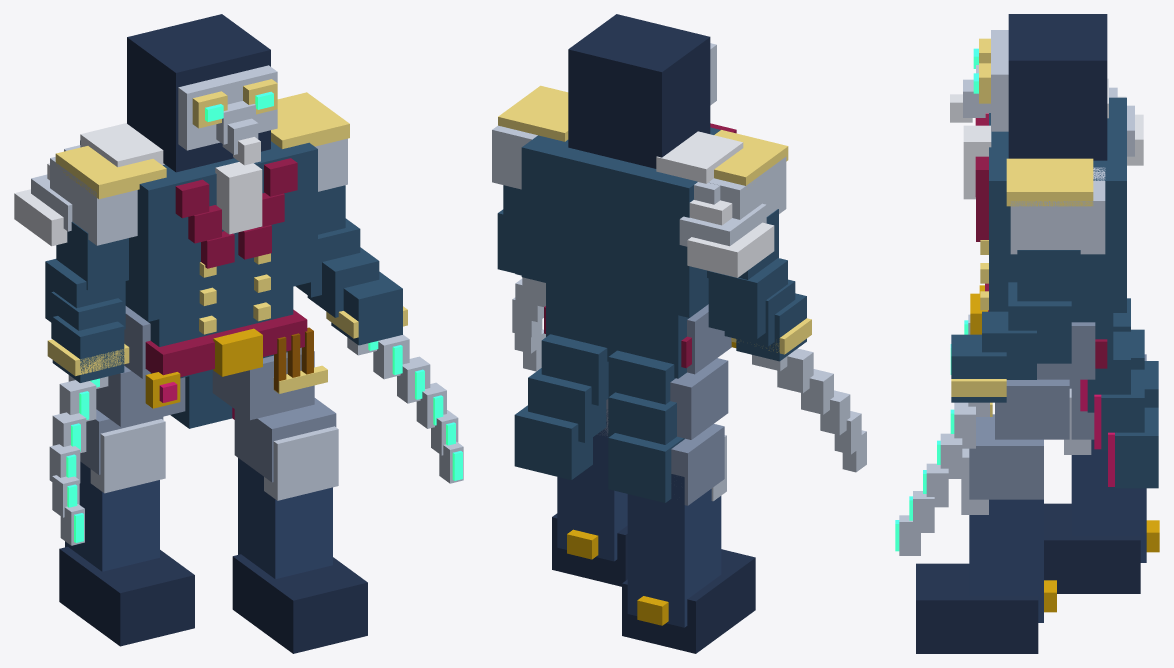
The model's file is syndicate-velvet-blade.glb.
3 views of the same model, side by side, from view 1: azimuth 30°, elevation 25°; view 2: azimuth 150°, elevation 25°; view 3: azimuth 270°, elevation 25° (orthographic).
Parts seen in each view (by area): view 1: Boots, Sleeves, Vest, Trousers, Hood, MithrilHook, Greaves, Epaulettes, Lapels, RavenMask, Shoulders, WhiteRavenMantle (+11 smaller); view 2: Vest, Boots, Coattails, Hood, Sleeves, WhiteRavenMantle, Trousers, MithrilHook, Waist, Epaulettes, Shoulders, Spur (+1 smaller); view 3: Boots, Hood, Trousers, Sleeves, Vest, Coattails, Shoulders, MithrilHook, Epaulettes, RavenMask, Greaves, Cravat (+11 smaller).
Part boxes in pixels (box(x1,y1,x2,y2)): Boots: box(59, 458, 367, 653); Sleeves: box(45, 185, 402, 382); Vest: box(80, 140, 317, 321); Trousers: box(80, 306, 336, 482); Hood: box(127, 14, 270, 172); MithrilHook: box(49, 334, 463, 545); Greaves: box(90, 419, 338, 500); Epaulettes: box(55, 92, 349, 199); Lapels: box(175, 158, 297, 268); RavenMask: box(178, 65, 277, 165); Shoulders: box(50, 138, 347, 245); WhiteRavenMantle: box(14, 123, 164, 246); Vest: box(521, 127, 720, 317); Boots: box(552, 409, 755, 653); Coattails: box(514, 334, 684, 502); Hood: box(568, 14, 710, 168); Sleeves: box(497, 185, 806, 361); WhiteRavenMantle: box(656, 131, 774, 277); Trousers: box(597, 304, 731, 505); MithrilHook: box(512, 277, 866, 472); Waist: box(546, 283, 708, 378); Epaulettes: box(498, 85, 788, 185); Shoulders: box(492, 125, 786, 219); Spur: box(567, 529, 668, 625); Boots: box(916, 439, 1146, 653); Hood: box(1008, 14, 1107, 160); Trousers: box(969, 322, 1146, 499); Sleeves: box(951, 250, 1080, 402); Vest: box(989, 97, 1126, 312); Coattails: box(1087, 298, 1158, 488); Shoulders: box(1010, 167, 1105, 254); MithrilHook: box(899, 314, 989, 555); Epaulettes: box(1006, 158, 1093, 206); RavenMask: box(950, 30, 1008, 131); Greaves: box(961, 388, 1091, 514); Cravat: box(963, 125, 991, 199).
Bounding box in the file's own units: 1.13 × 1.66 × 0.699.
